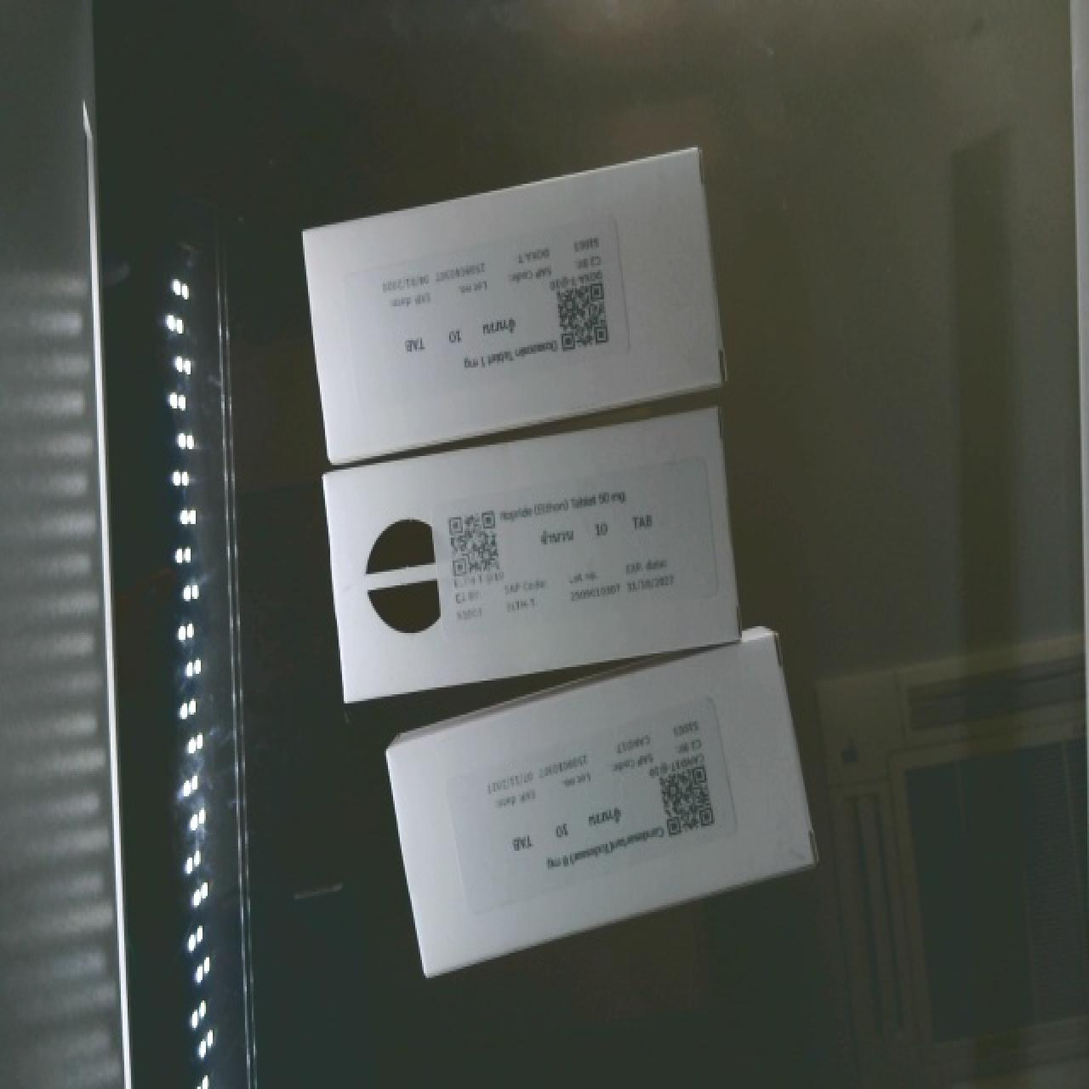qr_code: (634, 735, 737, 858), (534, 259, 630, 370), (431, 498, 517, 593)
